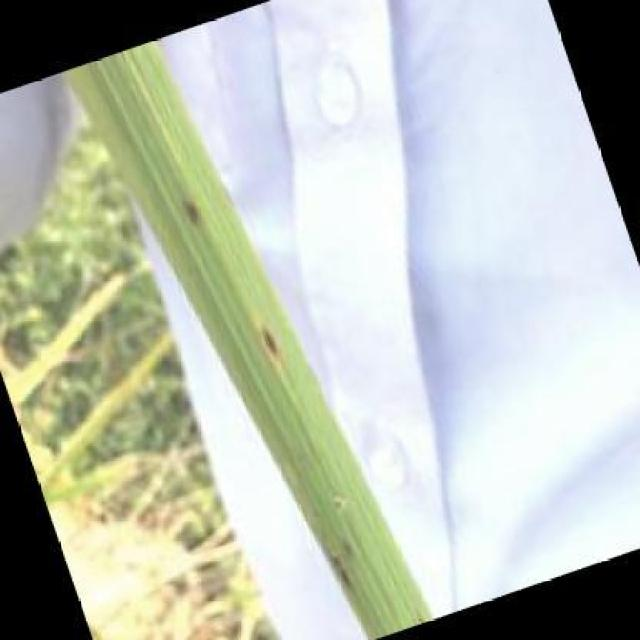Leaf_Blast: (250, 305, 299, 383), (168, 182, 218, 248), (324, 524, 368, 594)
